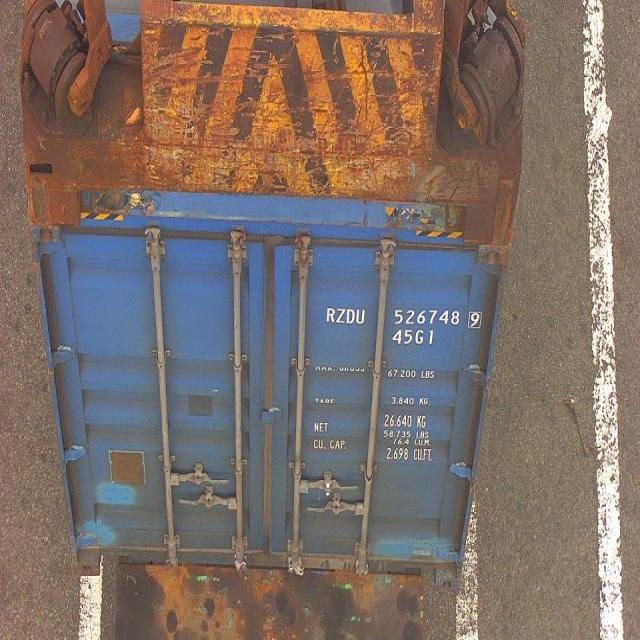ISO: (394, 330, 438, 348)
container_number: (325, 300, 483, 330)
